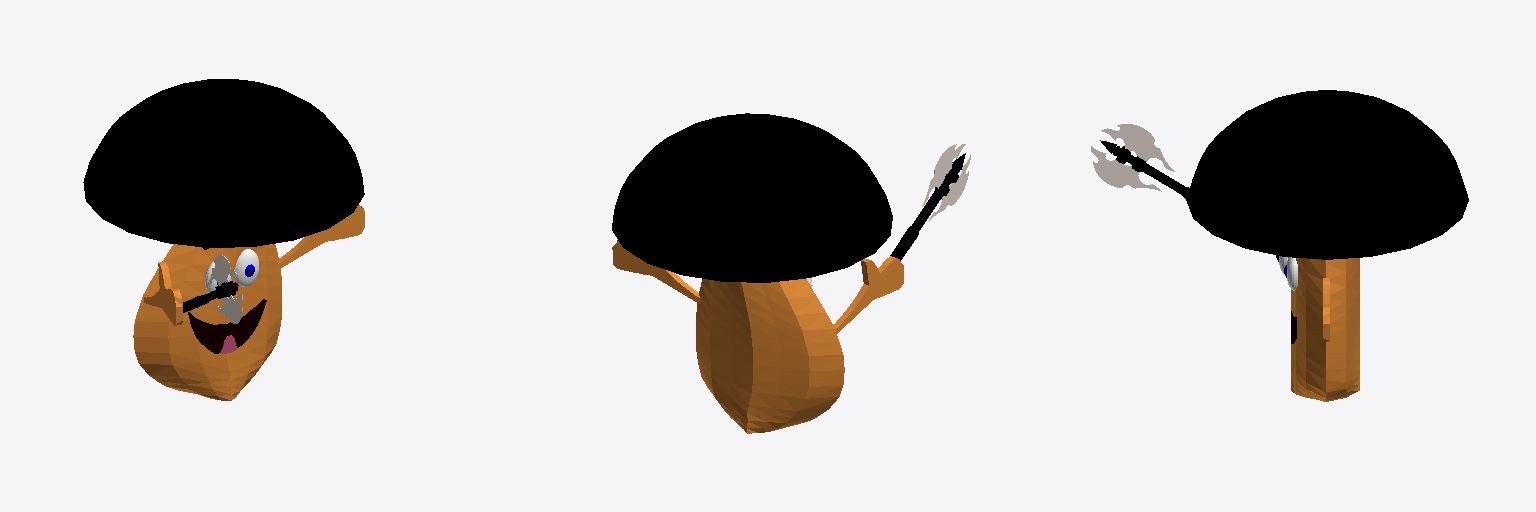
Rendered from MushroomsWORSHIPPER3.obj.
3 renders of one model, left to right at view 1: azimuth 30°, elevation 25°; view 2: azimuth 150°, elevation 25°; view 3: azimuth 270°, elevation 25°, orthographic.
Parts seen in each view (by area): view 1: polySurface13 polySurface30, polySurface13 polySurface27, polySurface26 polySurface13, MushroomsBATTLEAXE:polySurface6, polySurface13 polySurface28, polySurface13 polySurface29, polySurface13 polySurface33; view 2: polySurface13 polySurface30, polySurface13 polySurface27, MushroomsBATTLEAXE:polySurface6, polySurface13 polySurface29, polySurface13 polySurface28; view 3: polySurface13 polySurface30, polySurface13 polySurface27, MushroomsBATTLEAXE:polySurface6.
Part boxes in pixels (x1,y1,x2,y2): polySurface13 polySurface30: (83, 79, 364, 247); polySurface13 polySurface27: (133, 244, 281, 400); polySurface26 polySurface13: (188, 299, 266, 353); MushroomsBATTLEAXE:polySurface6: (183, 255, 242, 323); polySurface13 polySurface28: (278, 205, 364, 269); polySurface13 polySurface29: (144, 262, 182, 325); polySurface13 polySurface33: (235, 249, 258, 286); polySurface13 polySurface30: (612, 113, 892, 282); polySurface13 polySurface27: (696, 279, 844, 433); MushroomsBATTLEAXE:polySurface6: (890, 144, 970, 260); polySurface13 polySurface29: (833, 256, 903, 333); polySurface13 polySurface28: (612, 240, 700, 303); polySurface13 polySurface30: (1186, 90, 1468, 259); polySurface13 polySurface27: (1291, 258, 1359, 401); MushroomsBATTLEAXE:polySurface6: (1091, 124, 1189, 198).
Bounding box in the file's own units: 4.09 × 4.38 × 5.13.